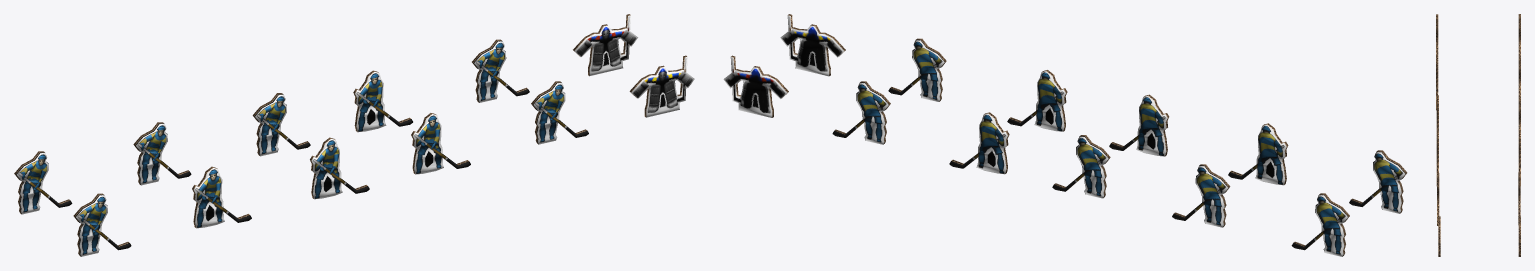
Rendered from VR HOCKEY PLAYESR.fbx.
3 renders of one model, left to right at view 1: azimuth 30°, elevation 25°; view 2: azimuth 150°, elevation 25°; view 3: azimuth 270°, elevation 25°, orthographic. The views are drawn at different scales.
Visible parts, largest first — view 1: BLUE_GOALKEEPER, RED_GOALKEEPER, BLUE4, BLUE2, BLUE3, RED4, BLUE5, RED1, BLUE1, RED2, RED5, RED3; view 2: RED_GOALKEEPER, BLUE_GOALKEEPER, BLUE3, BLUE2, RED4, BLUE4, RED1, BLUE5, RED2, RED3, RED5, BLUE1; view 3: BLUE5, RED5, BLUE4, RED4, BLUE2, RED2, RED1, RED_GOALKEEPER, BLUE_GOALKEEPER, BLUE1, BLUE3, RED3.
Part boxes in pixels (x1,y1,x2,y2): BLUE_GOALKEEPER: [629, 55, 694, 117]; RED_GOALKEEPER: [573, 14, 637, 76]; BLUE4: [411, 113, 470, 174]; BLUE2: [192, 166, 251, 228]; BLUE3: [310, 137, 369, 199]; RED4: [353, 70, 412, 132]; BLUE5: [531, 81, 588, 144]; RED1: [14, 151, 72, 214]; BLUE1: [73, 193, 131, 256]; RED2: [133, 122, 191, 185]; RED5: [472, 39, 529, 102]; RED3: [252, 93, 310, 156]; RED_GOALKEEPER: [723, 55, 788, 117]; BLUE_GOALKEEPER: [780, 14, 845, 76]; BLUE3: [1109, 94, 1169, 156]; BLUE2: [1228, 123, 1288, 185]; RED4: [949, 112, 1009, 174]; BLUE4: [1007, 70, 1067, 131]; RED1: [1291, 193, 1349, 256]; BLUE5: [888, 38, 946, 101]; RED2: [1172, 164, 1230, 227]; RED3: [1052, 135, 1110, 198]; RED5: [832, 81, 890, 144]; BLUE1: [1349, 150, 1407, 213]; BLUE5: [1437, 173, 1439, 225]; RED5: [1518, 172, 1520, 224]; BLUE4: [1436, 130, 1438, 185]; RED4: [1518, 130, 1520, 185]; BLUE2: [1436, 54, 1438, 110]; RED2: [1518, 55, 1520, 96]; RED1: [1518, 14, 1520, 55]; RED_GOALKEEPER: [1518, 216, 1520, 256]; BLUE_GOALKEEPER: [1438, 216, 1440, 256]; BLUE1: [1436, 14, 1438, 54]; BLUE3: [1436, 95, 1438, 130]; RED3: [1518, 96, 1520, 130].
Bounding box in the file's own units: 31.33 × 3.01 × 5.22.
